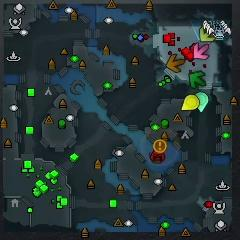p2: (195, 92, 209, 113)
p4: (181, 94, 200, 111)
x1: (194, 43, 210, 61)
x2: (199, 27, 215, 42)
x4: (189, 71, 207, 89)
x5: (167, 54, 186, 74)
